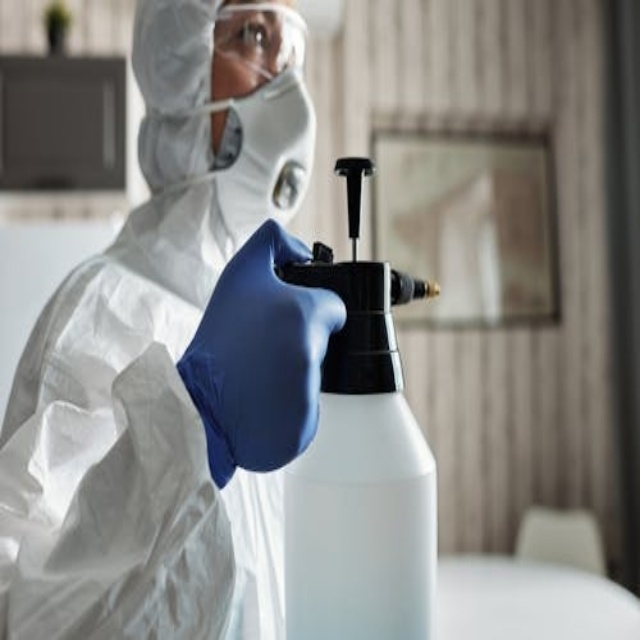Gafas: (209, 2, 310, 85)
Guantes: (178, 219, 349, 488)
Mascara: (209, 62, 314, 247)
